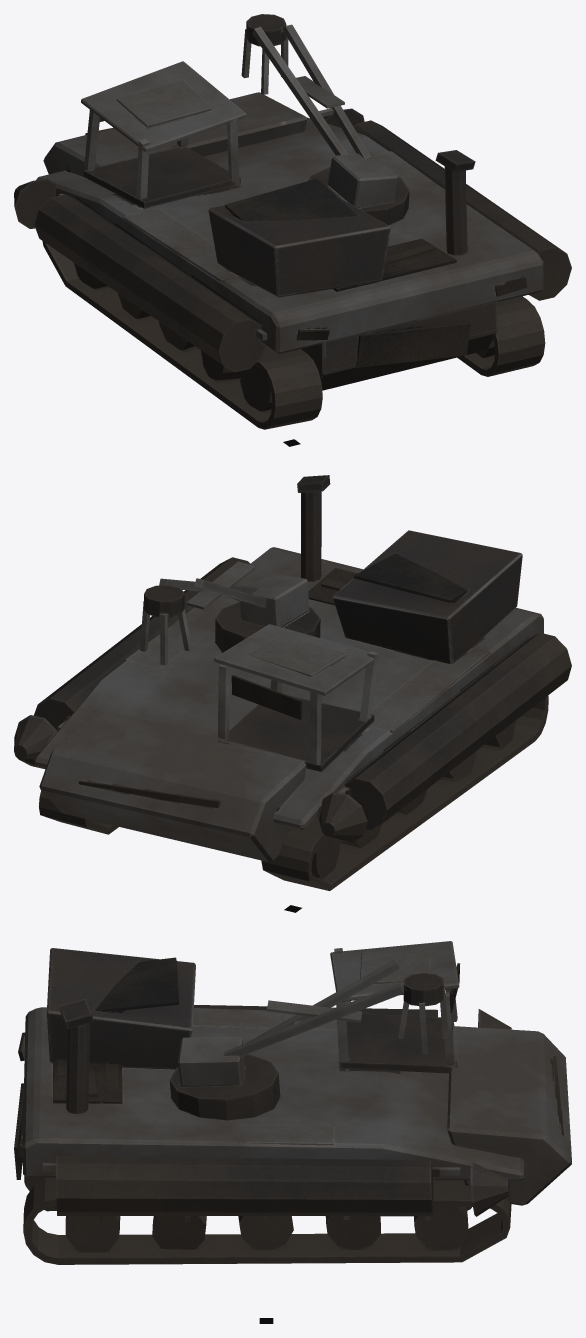
The model's file is chs_dredger_wreck.fbx.
3 renders of one model, top to bottom at view 1: azimuth 30°, elevation 25°; view 2: azimuth 150°, elevation 25°; view 3: azimuth 270°, elevation 25°, orthographic. The views are drawn at different scales.
Parts seen in each view (by area): view 1: base_bar, trackL_bar, nano_bar, trackR_bar; view 2: base_bar, trackL_bar, nano_bar, trackR_bar; view 3: base_bar, trackR_bar, nano_bar.
Boxes of the visible parts, left/top/right/bottom form: base_bar: left=14, top=61, right=571, bottom=390; trackL_bar: left=42, top=241, right=322, bottom=429; nano_bar: left=241, top=14, right=409, bottom=225; trackR_bar: left=457, top=296, right=545, bottom=376; base_bar: left=14, top=475, right=571, bottom=862; trackL_bar: left=261, top=695, right=548, bottom=890; nano_bar: left=140, top=561, right=320, bottom=665; trackR_bar: left=39, top=791, right=118, bottom=834; base_bar: left=14, top=941, right=571, bottom=1222; trackR_bar: left=23, top=1177, right=511, bottom=1264; nano_bar: left=169, top=959, right=448, bottom=1120.
Size of the model in its own units: 610 by 597 by 805.
2 materials, 2 textured.
